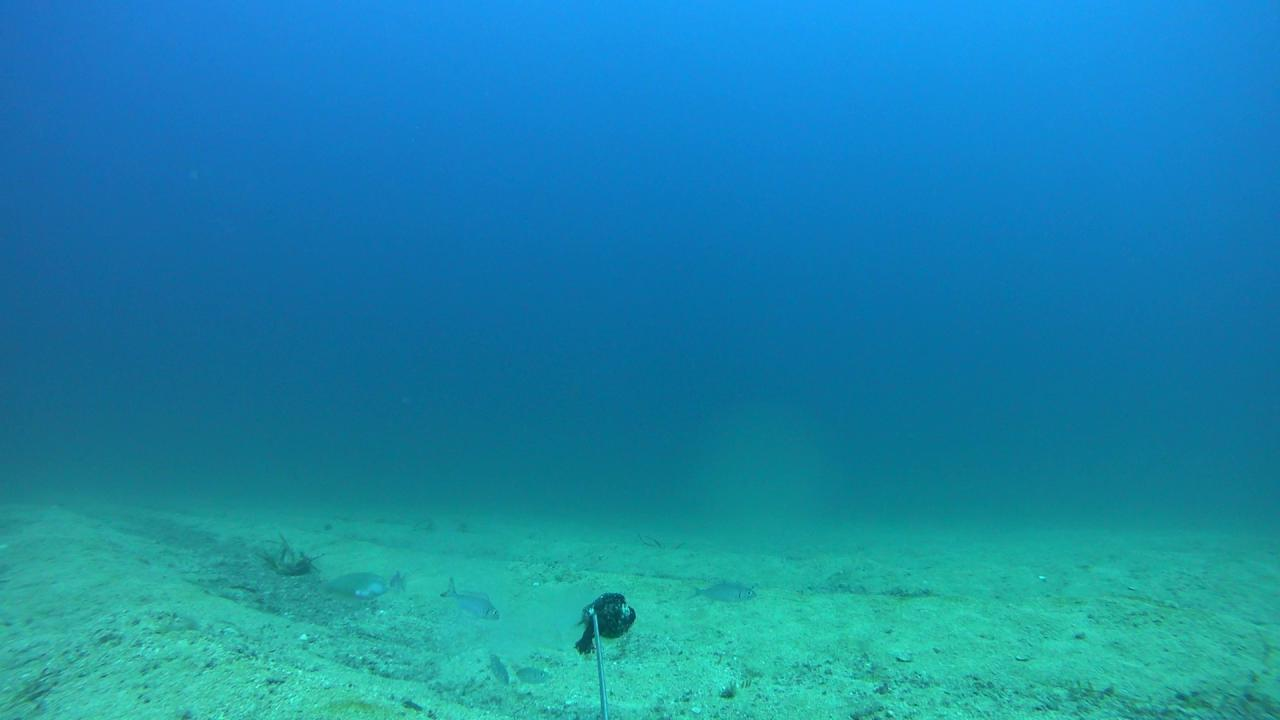pagellus: (438, 576, 501, 621), (681, 580, 755, 604)
